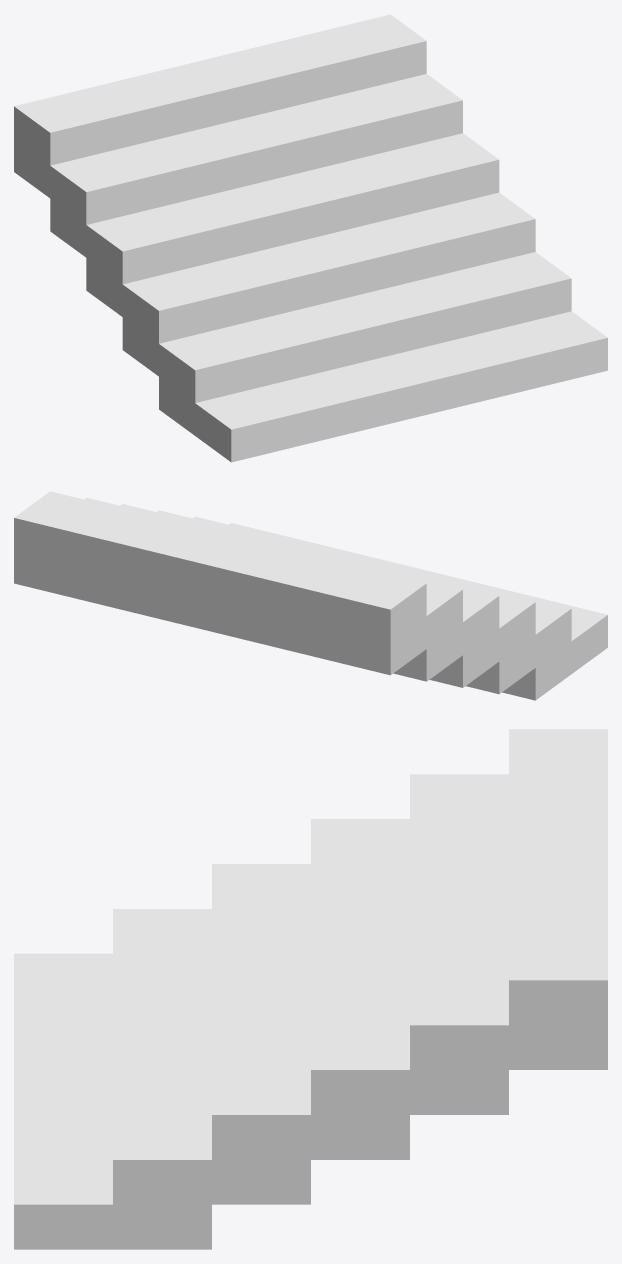
The model's file is StairsLongV1W.fbx.
3 renders of one model, top to bottom at view 1: azimuth 30°, elevation 25°; view 2: azimuth 150°, elevation 25°; view 3: azimuth 270°, elevation 25°, orthographic. The views are drawn at different scales.
Visible parts, largest first — view 1: StairsLongV1W; view 2: StairsLongV1W; view 3: StairsLongV1W.
Part boxes in pixels (x1=…): StairsLongV1W: x1=14, y1=14, x2=607, y2=462; StairsLongV1W: x1=14, y1=491, x2=607, y2=700; StairsLongV1W: x1=14, y1=729, x2=607, y2=1249.
Size of the model in its own units: 200 by 100 by 200.
